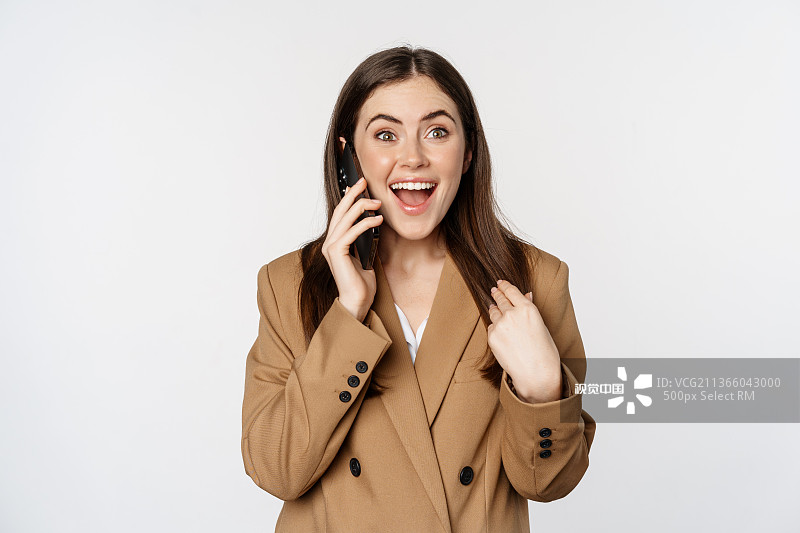calling: (304, 138, 412, 319)
no-phone: (459, 271, 575, 411)
